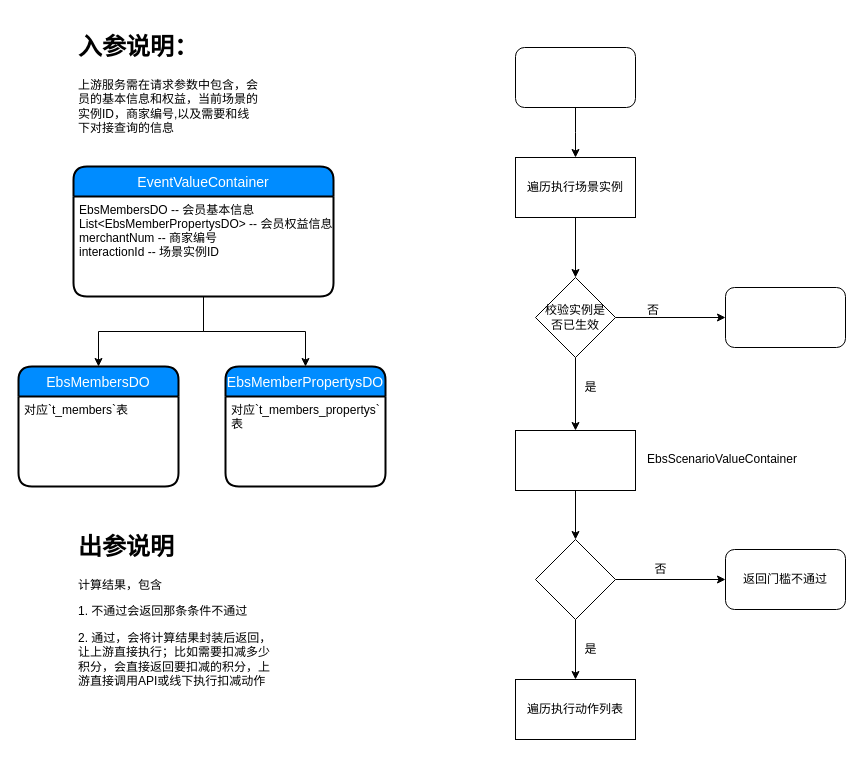
Image size: 863x757. Some labels were removed from this diagram. The centre of each missing label's shape, as x and y in pixels:
策略触发: the point at 575,77
组装策略容器: the point at 575,460
返回活动未生效: the point at 785,317
门槛校验: the point at 575,579
